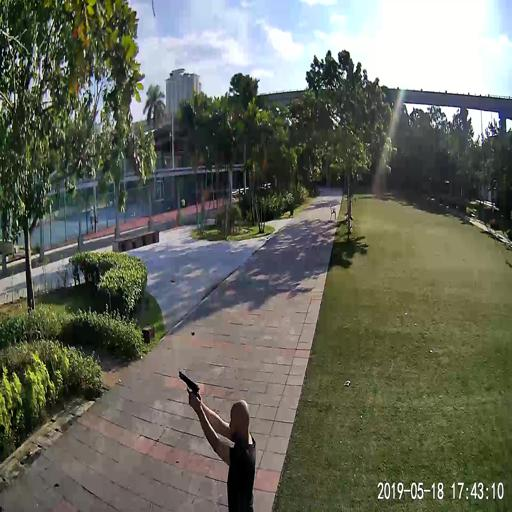pistol: (177, 369, 199, 397)
